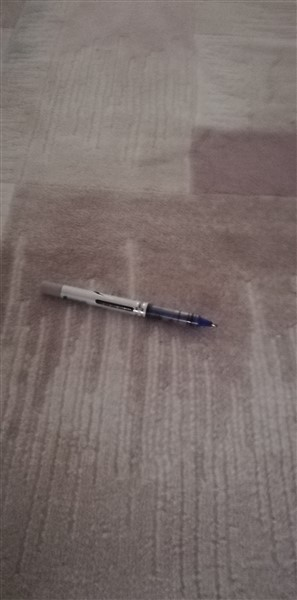pilot kalem: (37, 275, 218, 337)
